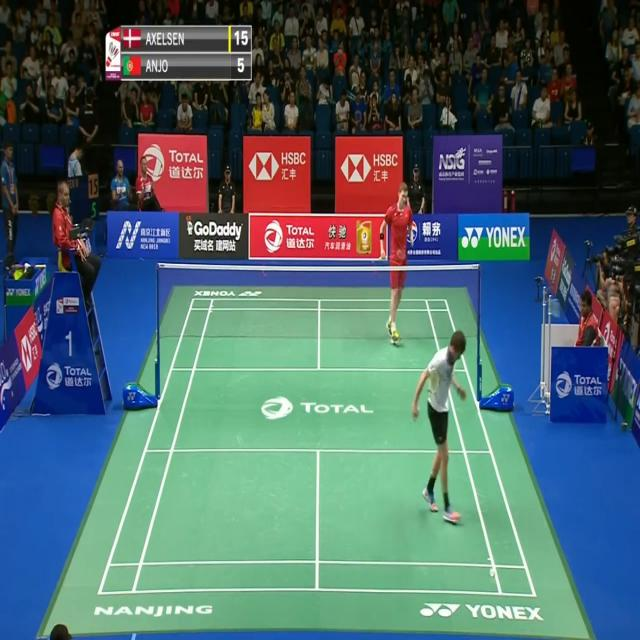Player1: (412, 329, 468, 527)
Player2: (378, 180, 417, 353)
